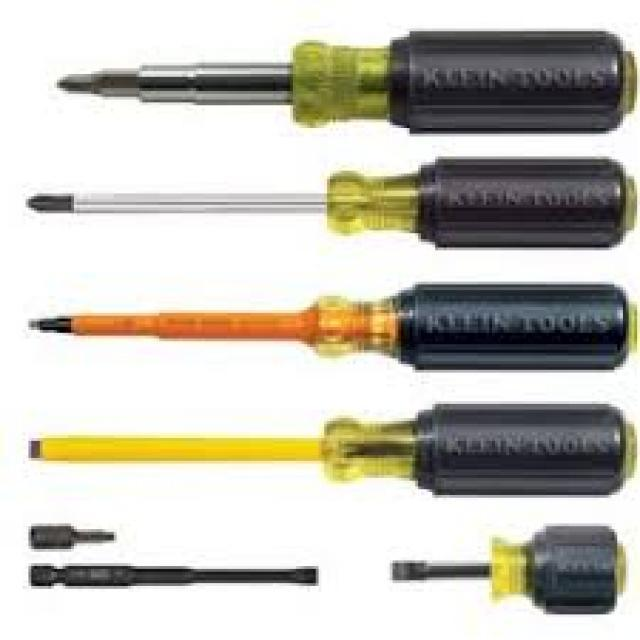screwdriver: (39, 21, 640, 142), (14, 387, 640, 502), (17, 150, 640, 261), (5, 270, 640, 378), (388, 523, 635, 624)
